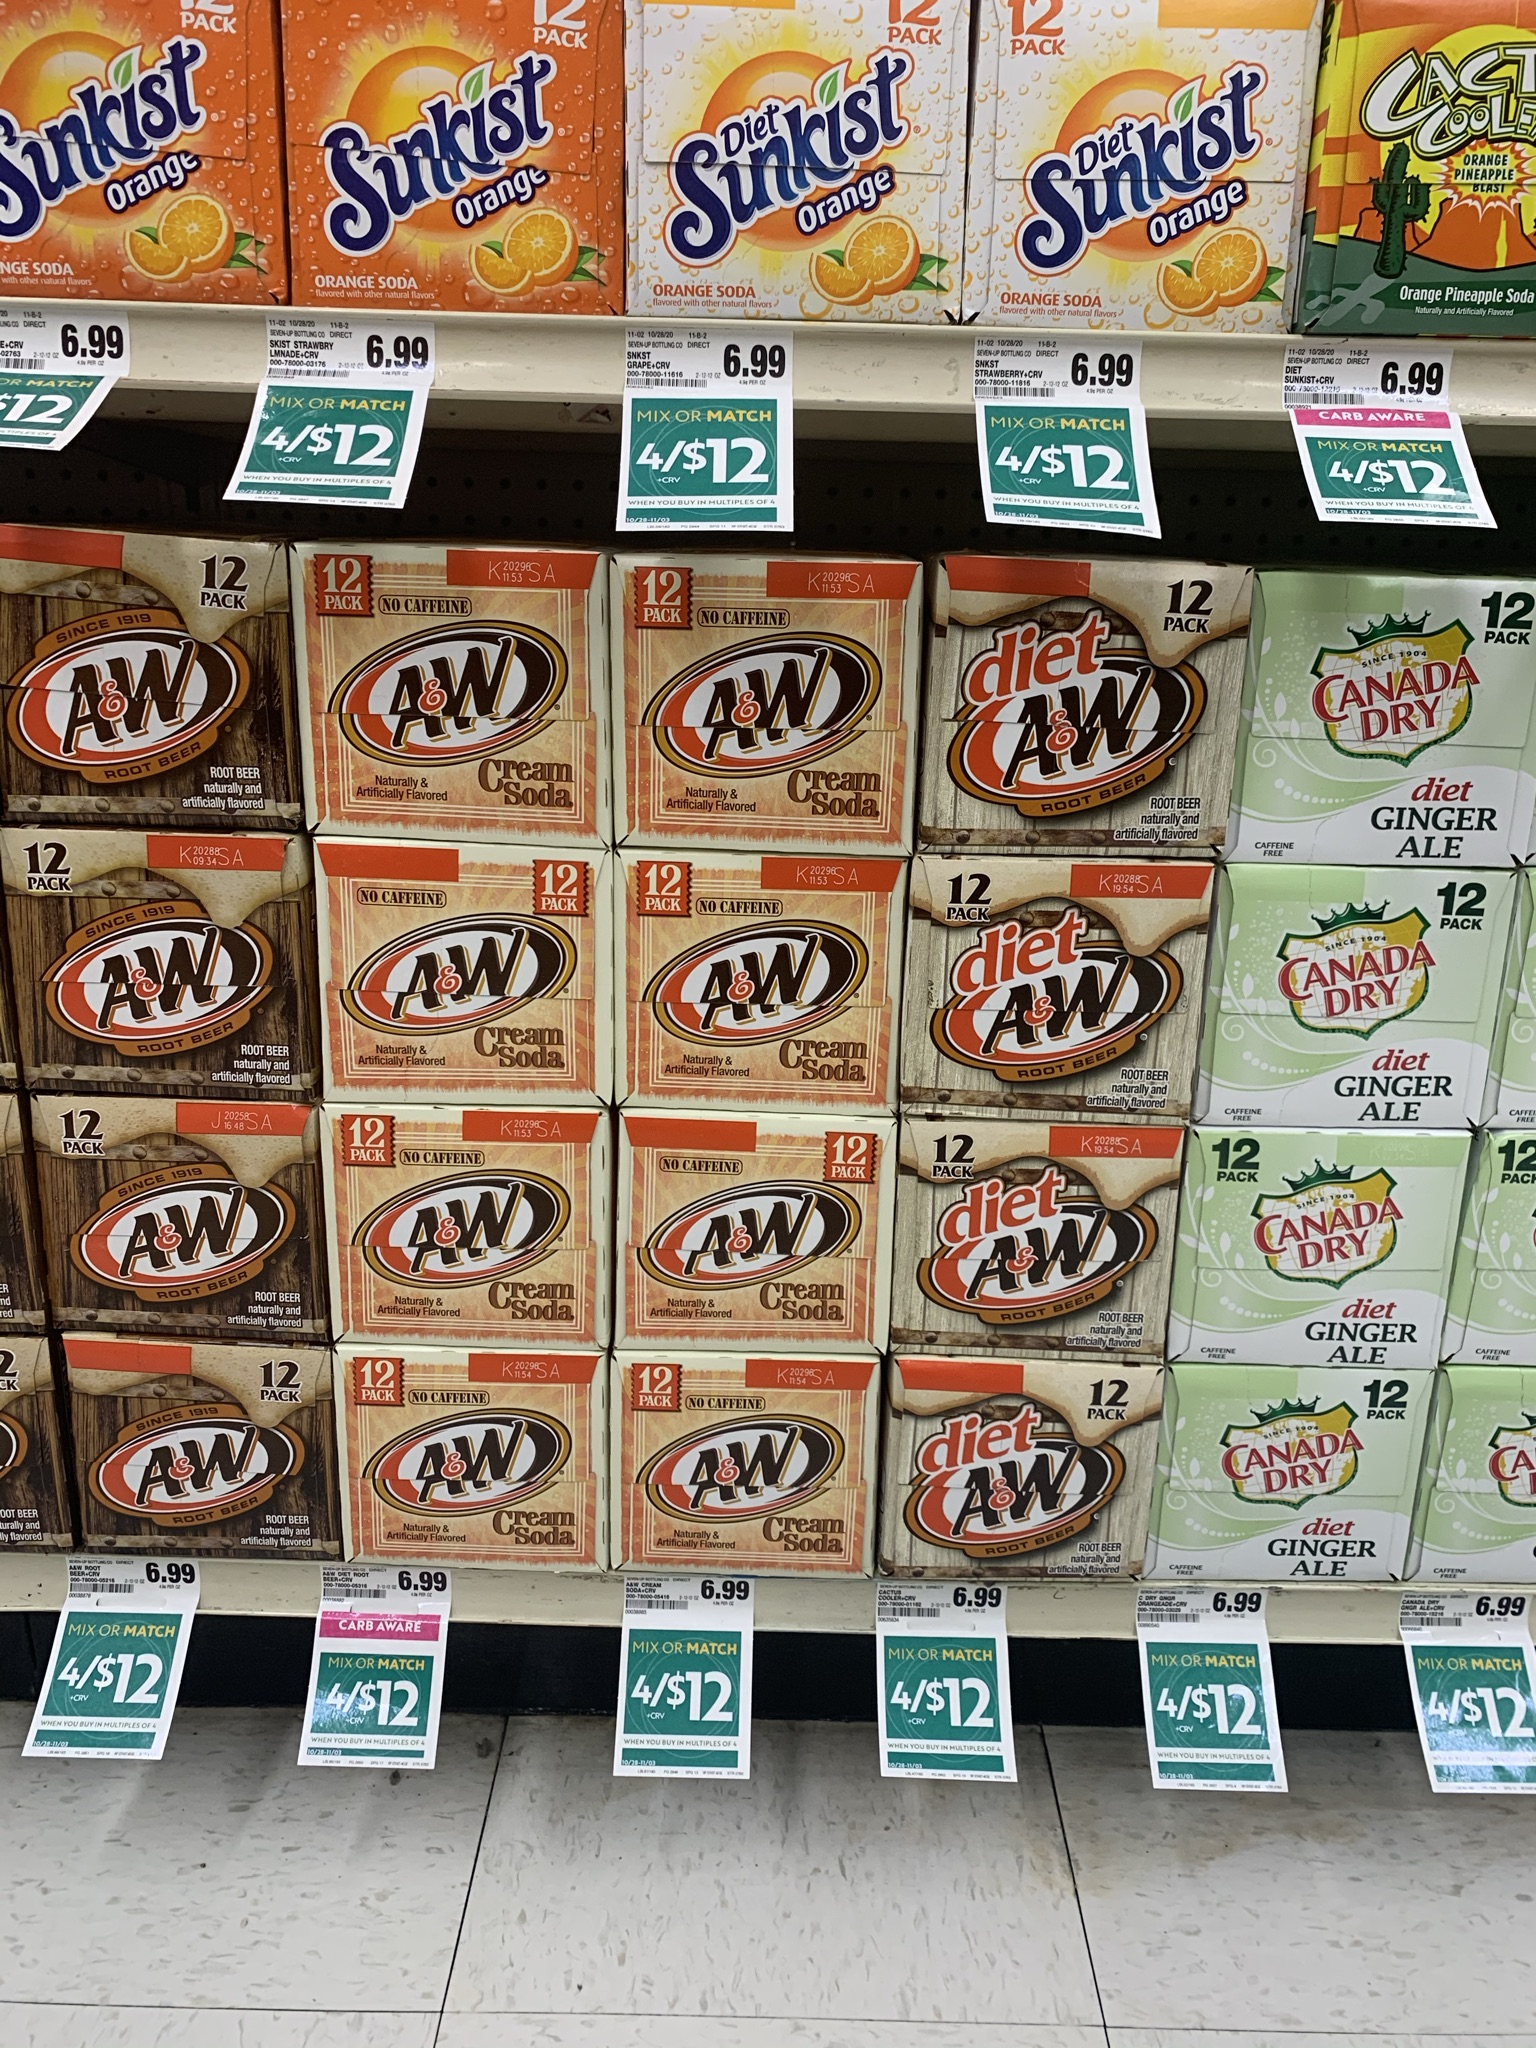Soda: (970, 2, 1297, 332), (629, 5, 965, 323), (281, 3, 623, 311), (294, 543, 605, 840), (608, 555, 913, 850), (928, 558, 1226, 855), (2, 527, 289, 824), (1258, 564, 1536, 860), (311, 842, 611, 1111), (2, 835, 310, 1097), (905, 860, 1199, 1122), (618, 843, 899, 1111), (1212, 863, 1497, 1126), (34, 1092, 326, 1340), (316, 1109, 605, 1351), (611, 1109, 889, 1356), (891, 1118, 1163, 1363), (1187, 1124, 1446, 1364), (58, 1332, 334, 1556), (336, 1350, 611, 1571), (611, 1351, 870, 1579), (878, 1359, 1146, 1577), (1163, 1363, 1413, 1585)
